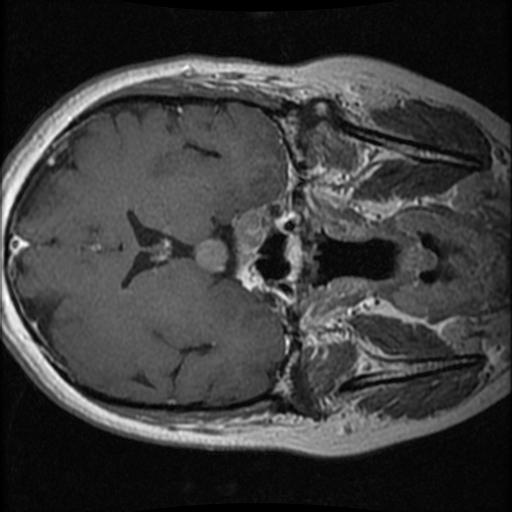pituitary tumour: (193, 201, 270, 288)
